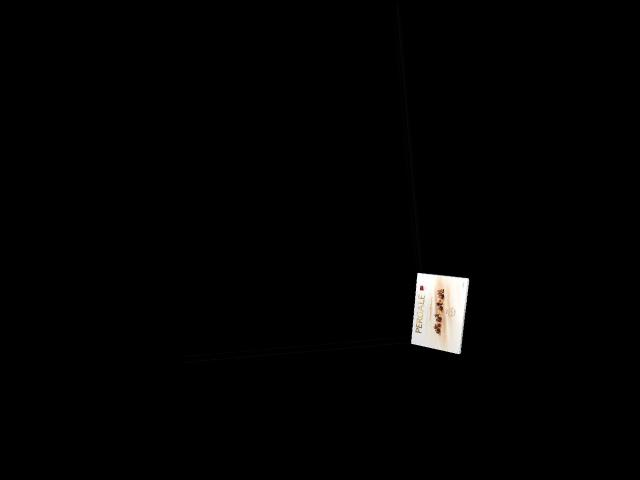chocolate: (406, 271, 478, 354)
